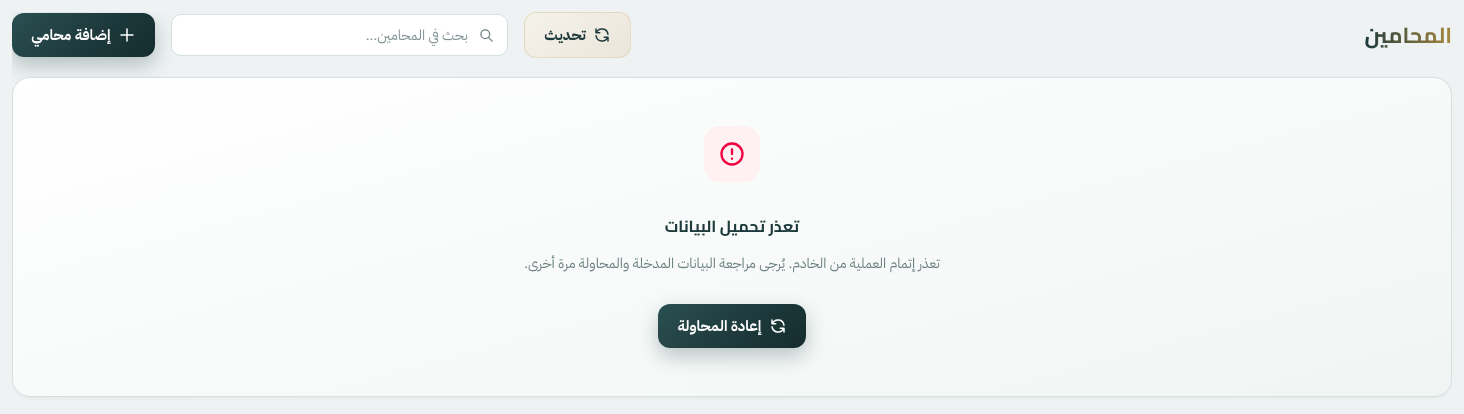
Test: LawyersPage Feature Tests › renders error state on API failure and retries successfully
Expected: the text "تعذر تحميل البيانات" is shown, [665,211,799,241]
Click the button "إعادة المحاولة" at point(732, 326), box [658,304,806,348]
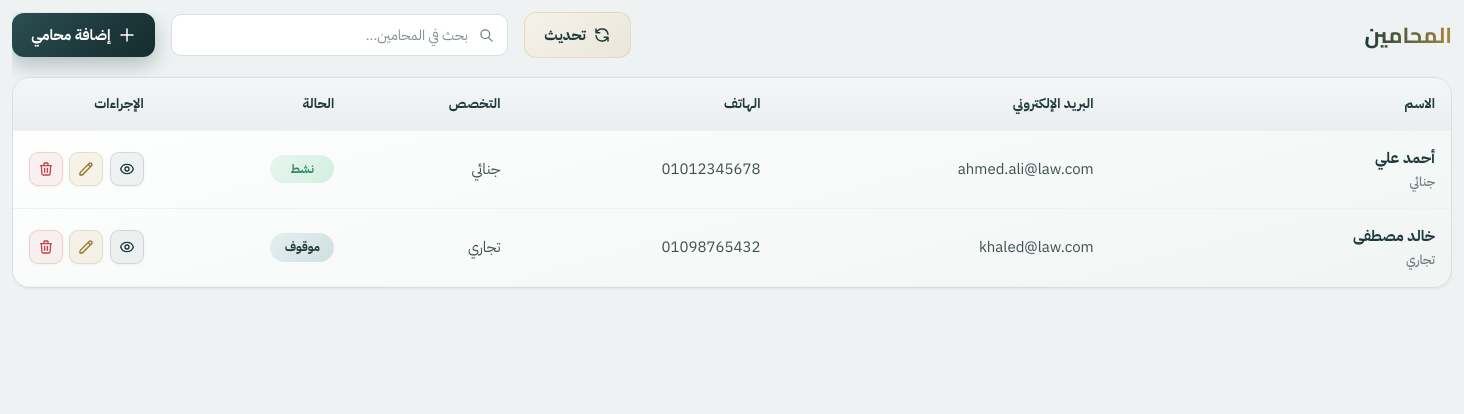
Expected: the text "أحمد علي" is shown, [1375,147,1435,169]
